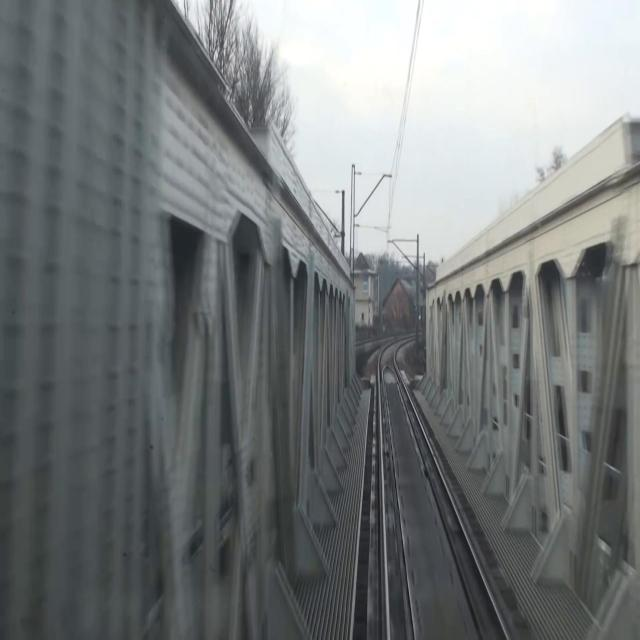rail-track: (380, 343, 478, 639), (402, 385, 505, 639), (381, 391, 410, 639)
